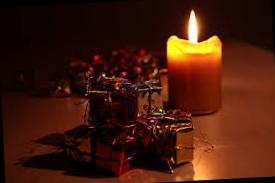Fire: (182, 8, 200, 46)
